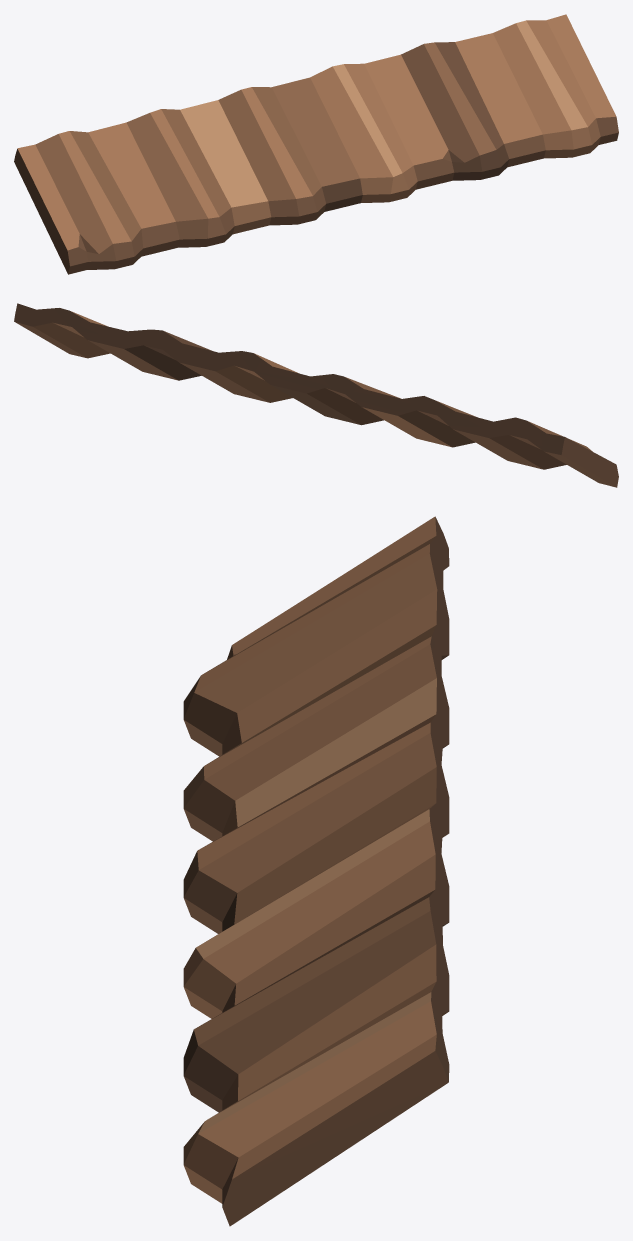
Rendered from SM_Bld_Roof_Manor_Edge_Straight_01.fbx.
3 renders of one model, top to bottom at view 1: azimuth 30°, elevation 25°; view 2: azimuth 150°, elevation 25°; view 3: azimuth 270°, elevation 25°, orthographic. The views are drawn at different scales.
Visible parts, largest first — view 1: SM_Bld_Roof_Manor_Edge_Straight_01; view 2: SM_Bld_Roof_Manor_Edge_Straight_01; view 3: SM_Bld_Roof_Manor_Edge_Straight_01.
Boxes of the visible parts, <box> form: SM_Bld_Roof_Manor_Edge_Straight_01: <box>14,14,618,274</box>; SM_Bld_Roof_Manor_Edge_Straight_01: <box>14,303,618,487</box>; SM_Bld_Roof_Manor_Edge_Straight_01: <box>183,516,449,1226</box>.
Bounding box in the file's own units: 250 × 41.45 × 52.56.
